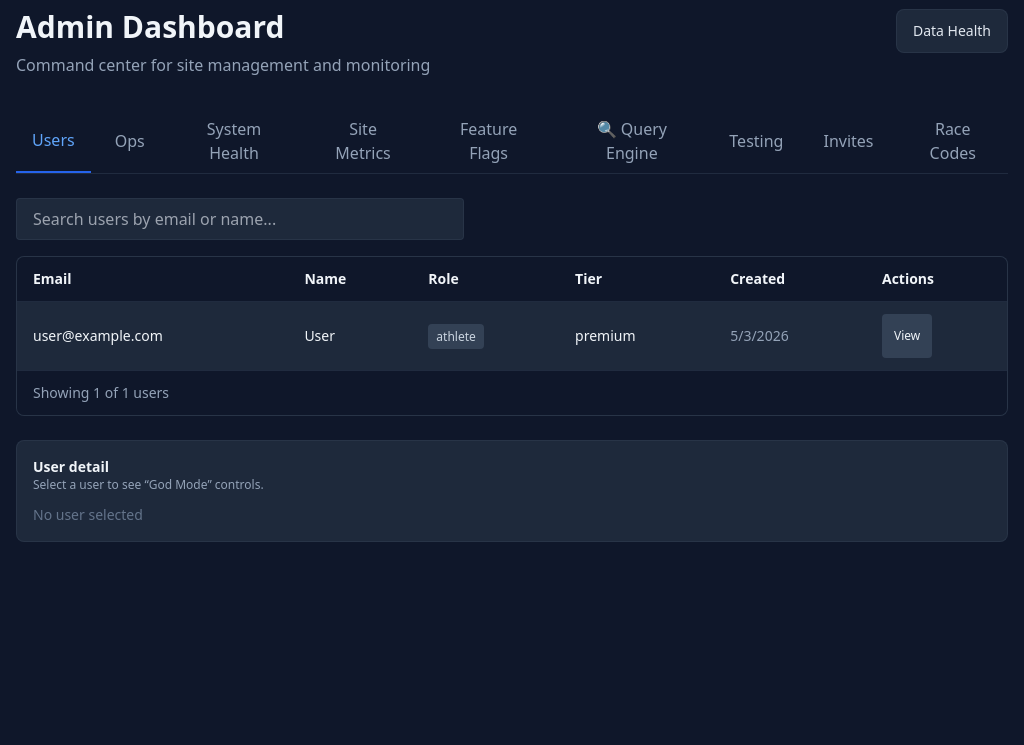
Test: Admin mutation error rendering › shows inline error when VIP mutation isError
Click the button "View" at (907, 336), box x1=882 y1=314 x2=932 y2=358
(page scrolled)
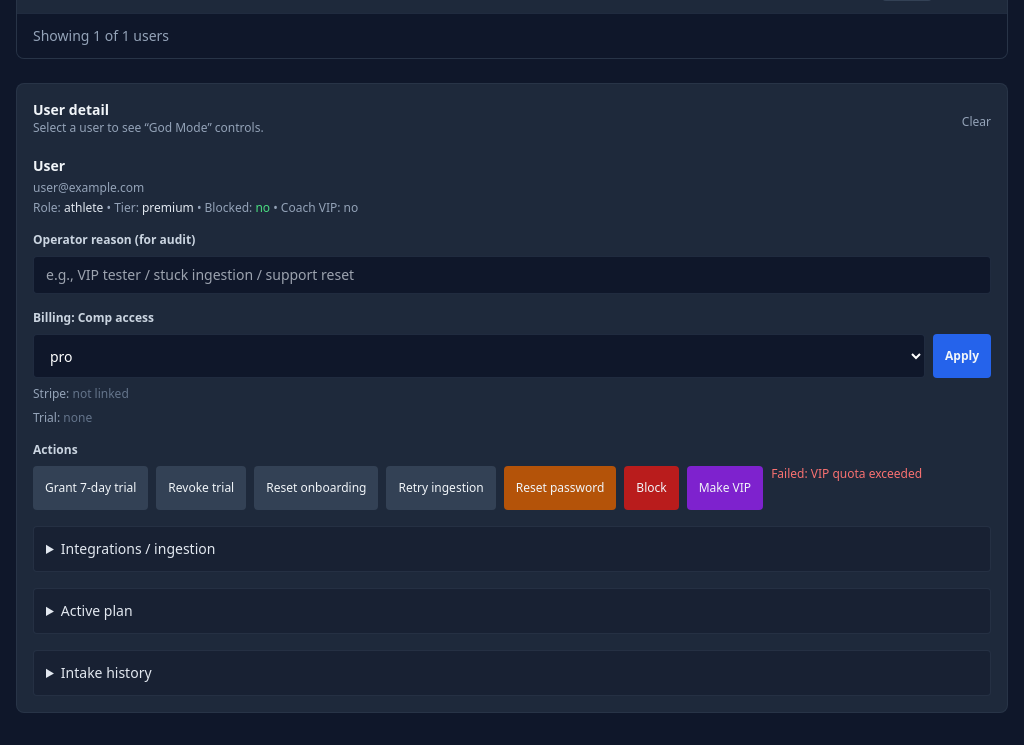
Check: the text "Failed: VIP quota exceeded" is shown, box x1=771 y1=465 x2=922 y2=482
